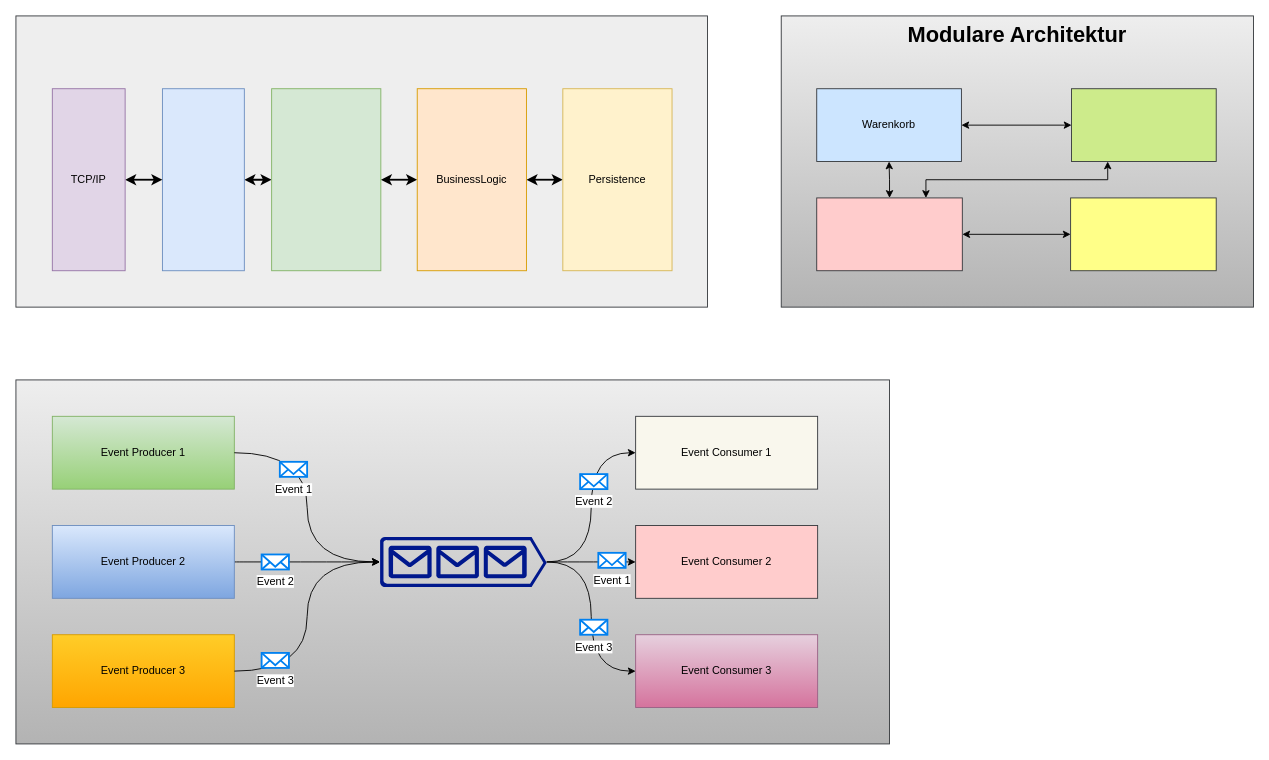
This 1269x760 diagram has some shape labels left out. Here are the shapes that lost their labels. From the top down, the box of each, then its label:
(1071, 88, 1216, 162): Benutzerverwaltung
(162, 88, 244, 271): HTTP Parsing
(271, 88, 381, 271): Authentication
(15, 15, 708, 307): Layered Architecture
(816, 197, 962, 271): Bestellabwicklung
(1070, 197, 1216, 271): Lagerhaltung
(15, 379, 890, 744): Eventgetriebene Architektur
(379, 536, 546, 586): Message Queue / Event Router
